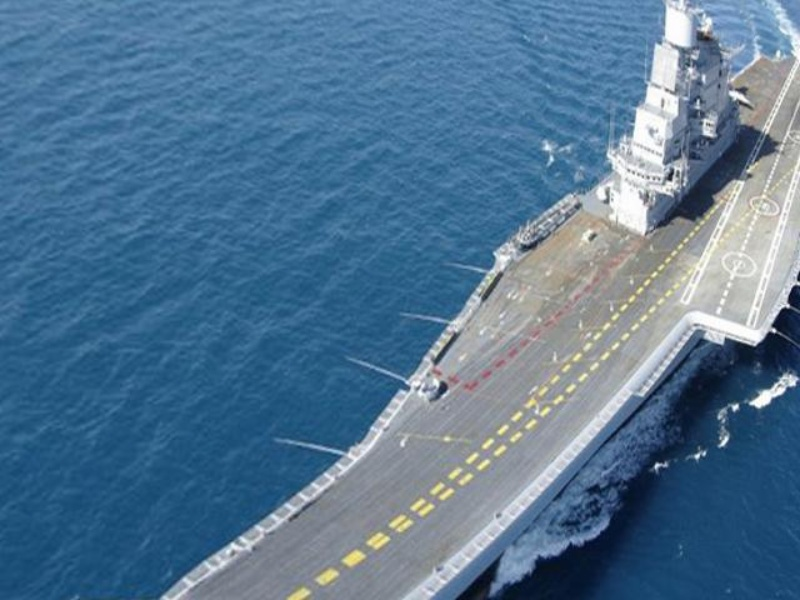carrier: (111, 19, 796, 596)
